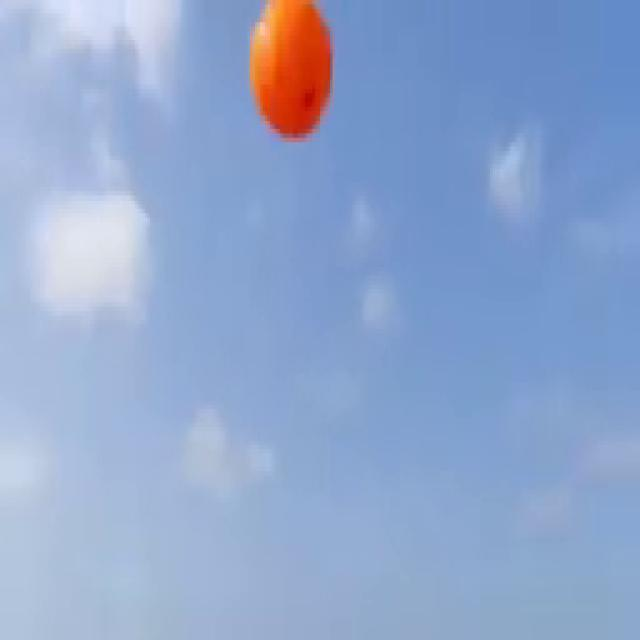red: (247, 0, 333, 141)
